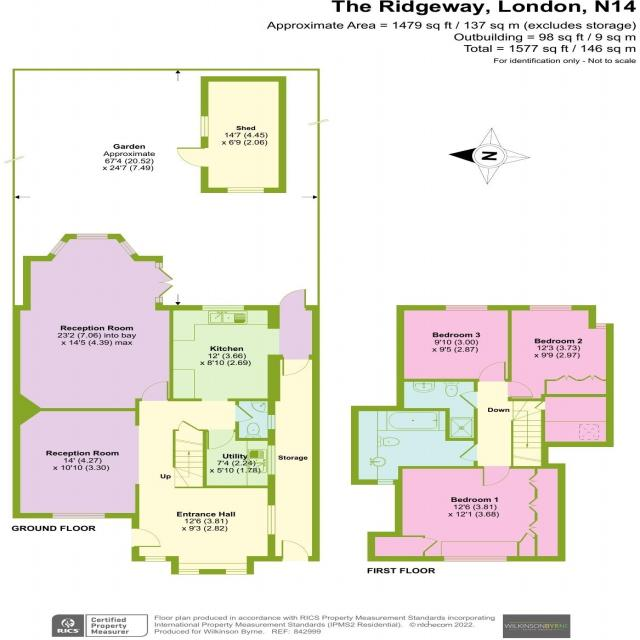DOOR: (130, 527, 163, 548), (277, 288, 307, 311), (281, 354, 311, 377), (206, 428, 236, 451), (281, 539, 310, 562), (482, 465, 512, 487), (140, 380, 169, 402), (477, 361, 507, 382), (504, 381, 534, 398), (457, 390, 478, 410), (234, 404, 255, 423), (458, 444, 478, 462)
ROOM: (12, 379, 277, 575), (12, 233, 176, 412), (367, 463, 566, 562), (168, 287, 321, 402), (507, 305, 614, 402), (396, 305, 512, 383)
WINDOW: (443, 555, 508, 562), (51, 512, 107, 519), (118, 239, 138, 257), (49, 239, 68, 256), (266, 504, 276, 535), (201, 304, 245, 311), (445, 304, 489, 311), (267, 444, 276, 476), (529, 305, 573, 311), (76, 233, 109, 240), (225, 568, 248, 575), (177, 568, 200, 575), (144, 555, 167, 562), (267, 414, 276, 430), (377, 479, 394, 485), (595, 323, 607, 329), (154, 262, 163, 268), (155, 297, 164, 303)
